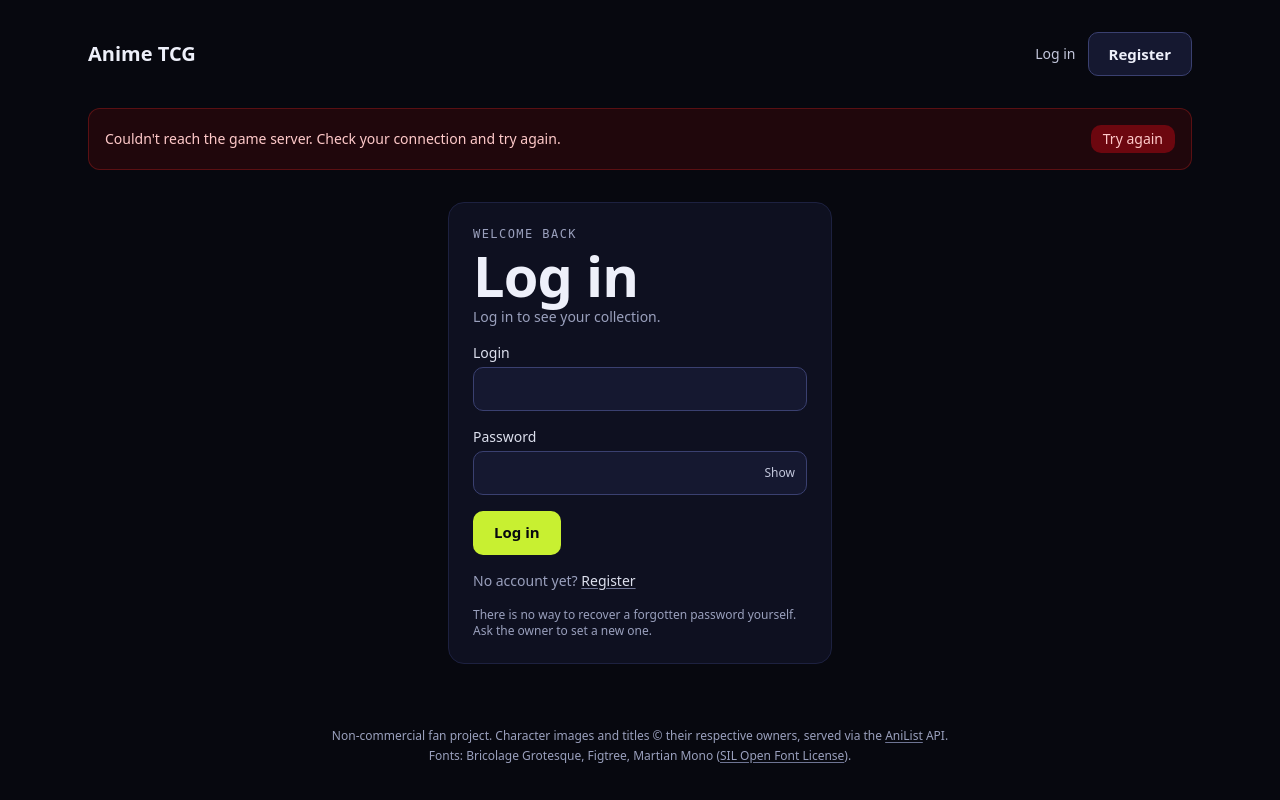
Test: App boot › unreachable on an account page: /login with the guard line; Try again that finds a session returns there
Expected: the heading "Log in" is shown, left=473, top=237, right=638, bottom=313
Expected: the text "Log in to see your collection." is shown, left=473, top=307, right=660, bottom=326
Click the button "Try again".
click(1133, 139)  # box left=1091, top=125, right=1175, bottom=153
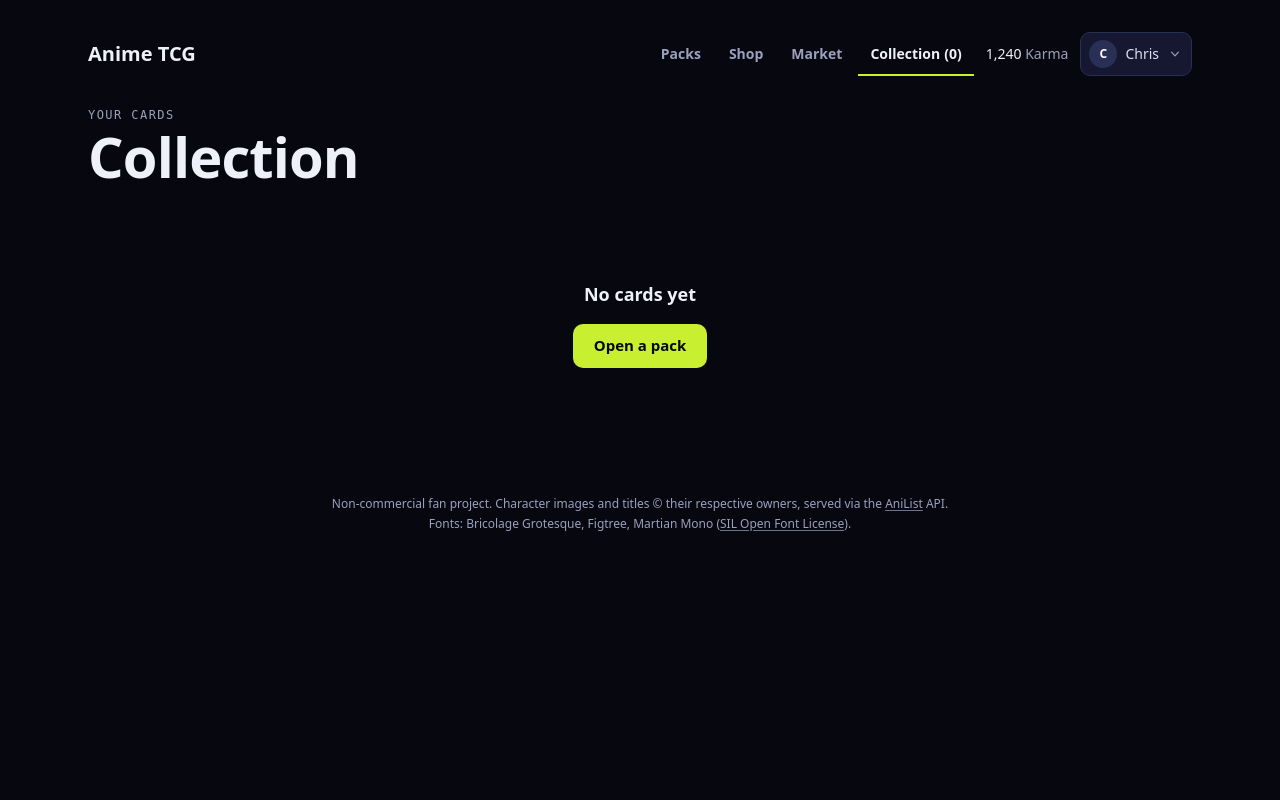
Result: the heading "Collection" is shown at left=88, top=118, right=359, bottom=194
Result: the message "Couldn't reach the game server. Check your connection and try again. Try again" is gone
